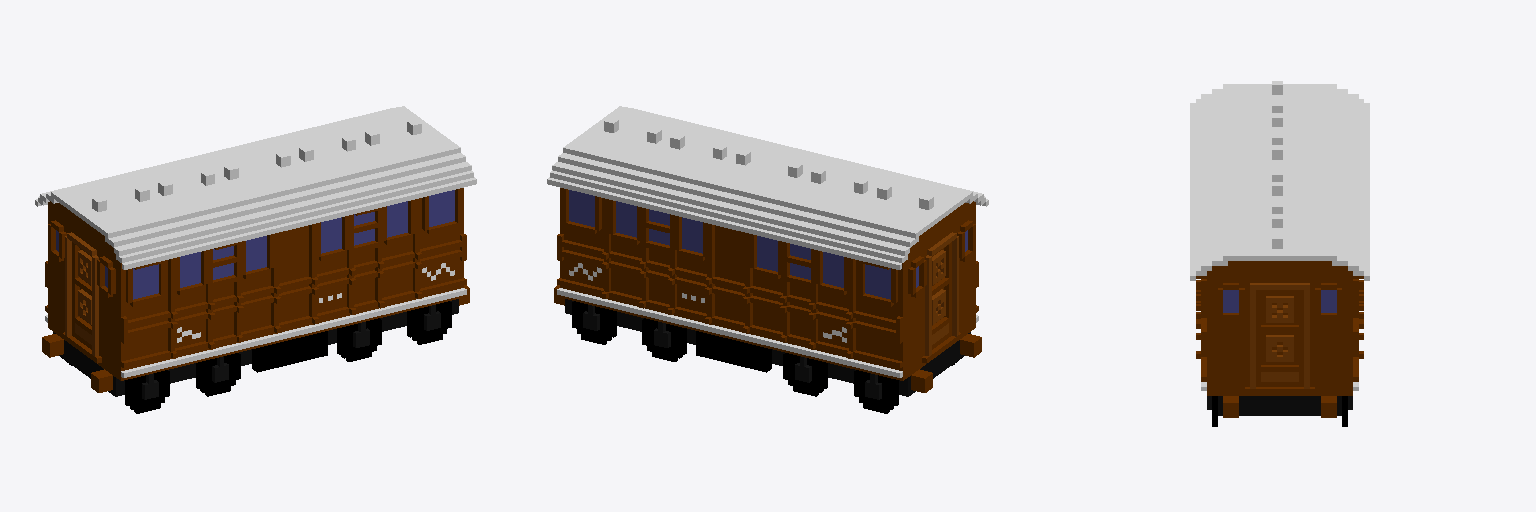
3 views of the same model, side by side, from view 1: azimuth 30°, elevation 25°; view 2: azimuth 150°, elevation 25°; view 3: azimuth 270°, elevation 25° (orthographic).
Size of the model in its own units: 79 by 39 by 33.
1 materials, 1 textured.